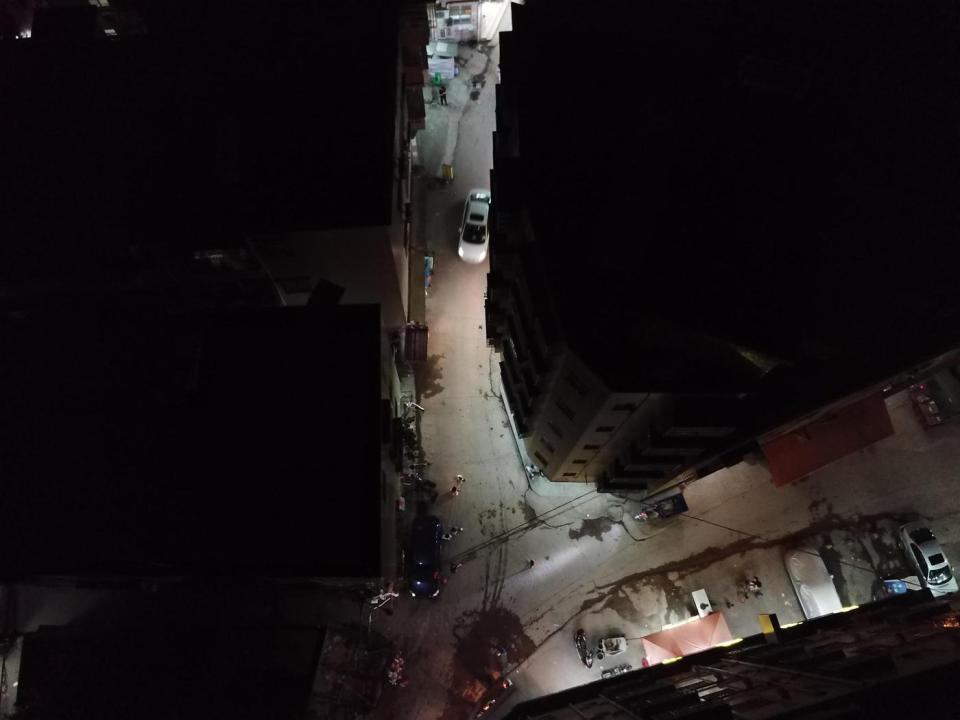car: (897, 520, 959, 605), (784, 546, 845, 627), (406, 516, 444, 598), (458, 187, 496, 265)
